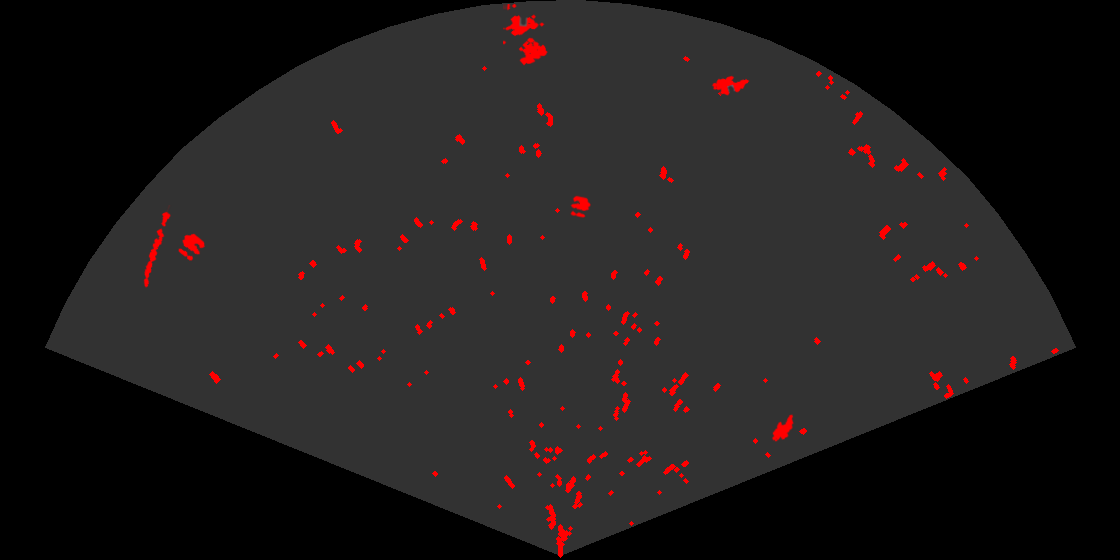AUV: (710, 74, 751, 97), (770, 413, 795, 443)
ball: (177, 232, 207, 262), (569, 194, 592, 219)
cage: (503, 4, 549, 67)
chain: (142, 205, 172, 289)
